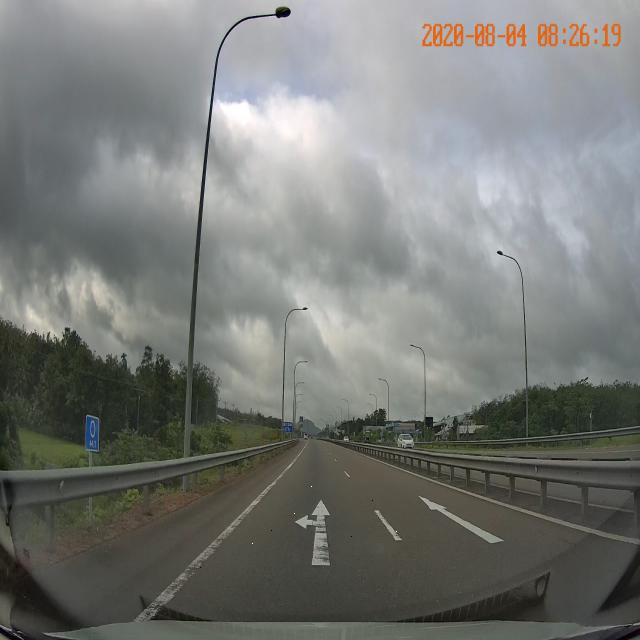forward_lft: (188, 486, 429, 571)
